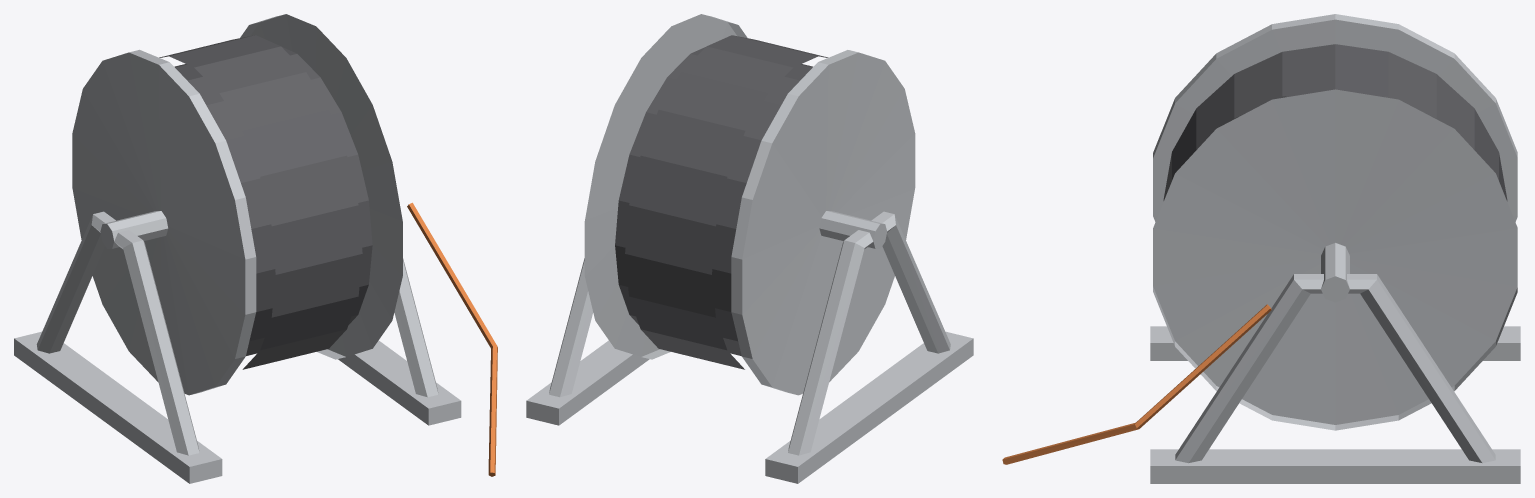
The model's file is underground-mine-and-shaft-works-blasting-wire-spool-796ee172.glb.
3 views of the same model, side by side, from view 1: azimuth 30°, elevation 25°; view 2: azimuth 150°, elevation 25°; view 3: azimuth 270°, elevation 25° (orthographic). The views are drawn at different scales.
Visible parts, largest first — view 1: blasting-wire-spool; view 2: blasting-wire-spool; view 3: blasting-wire-spool.
Boxes of the visible parts, x1,y1,x2,y2 form: blasting-wire-spool: [14, 14, 497, 483]; blasting-wire-spool: [526, 14, 973, 483]; blasting-wire-spool: [1002, 14, 1520, 483].
Bounding box in the file's own units: 0.5559 × 0.6088 × 0.7838.
